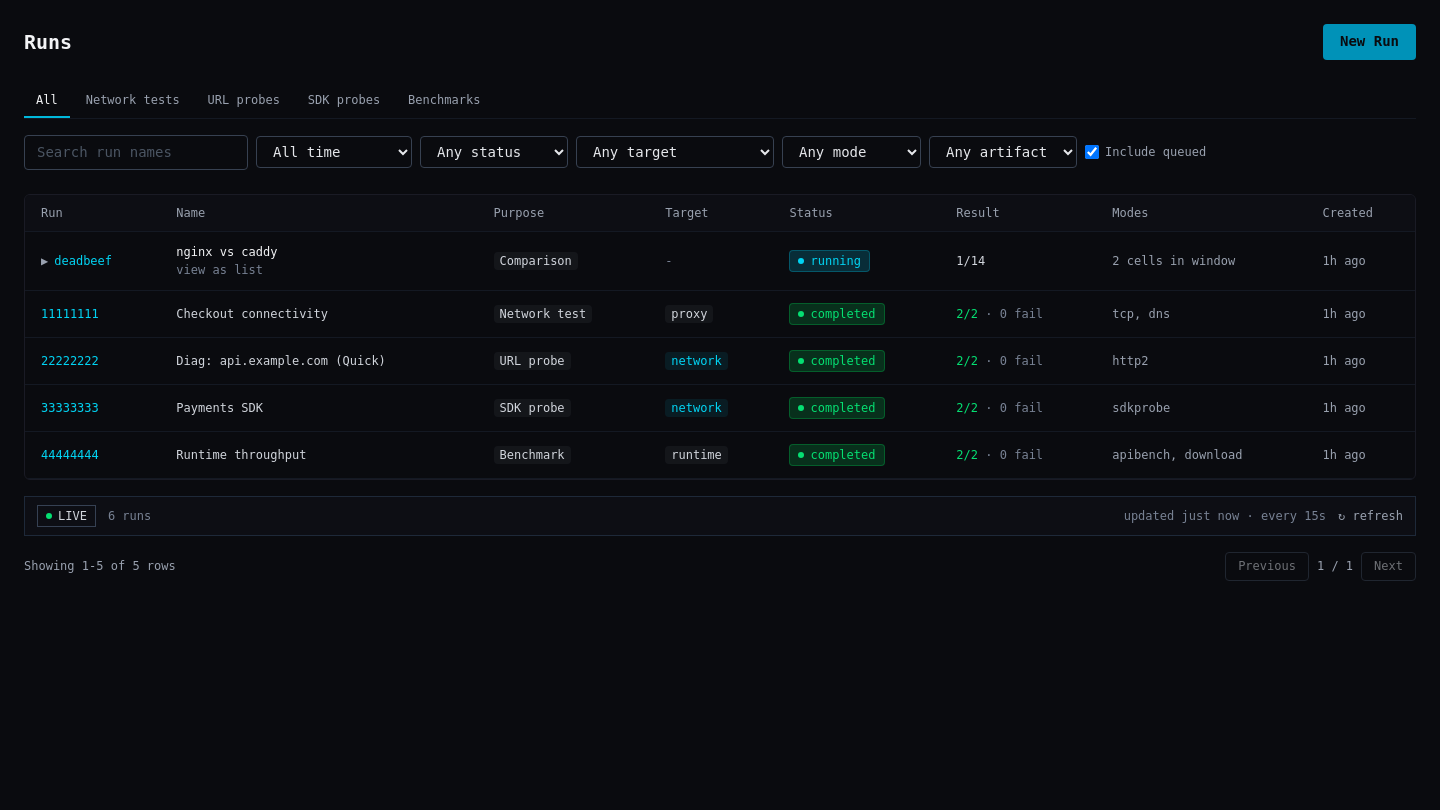
Scenario: RunsPage comparison-group rows › expanding the group reveals the cell rows; view-as-list applies the group filter
Click the button with aria-label "Expand group nginx vs caddy" at (76, 260), box [41,252,112,268]
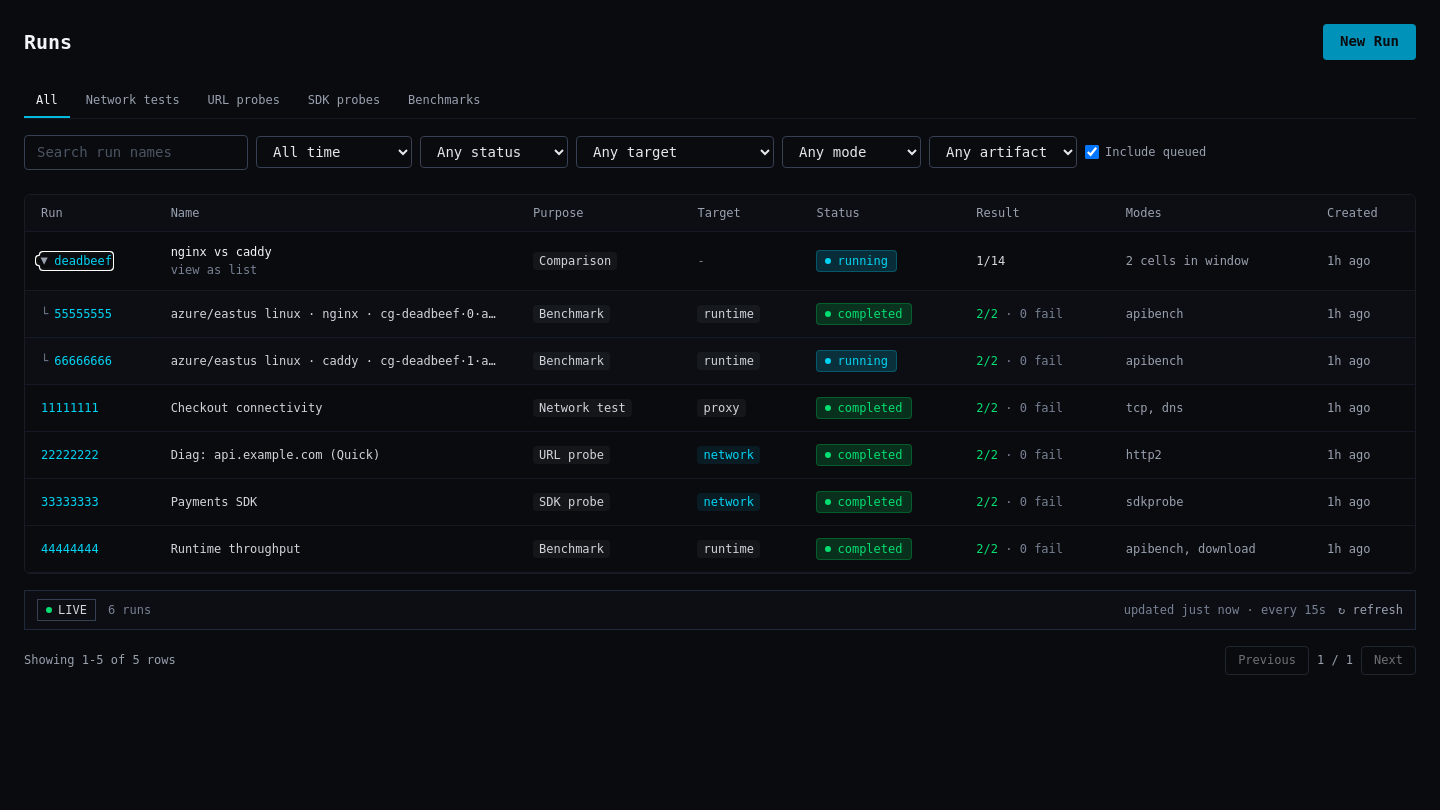
Expected: the text "azure/eastus linux · nginx · cg-deadbeef·0·ab12" is shown, [155,290,517,337]
Expected: the text "azure/eastus linux · caddy · cg-deadbeef·1·ab12" is shown, [155,337,517,384]
